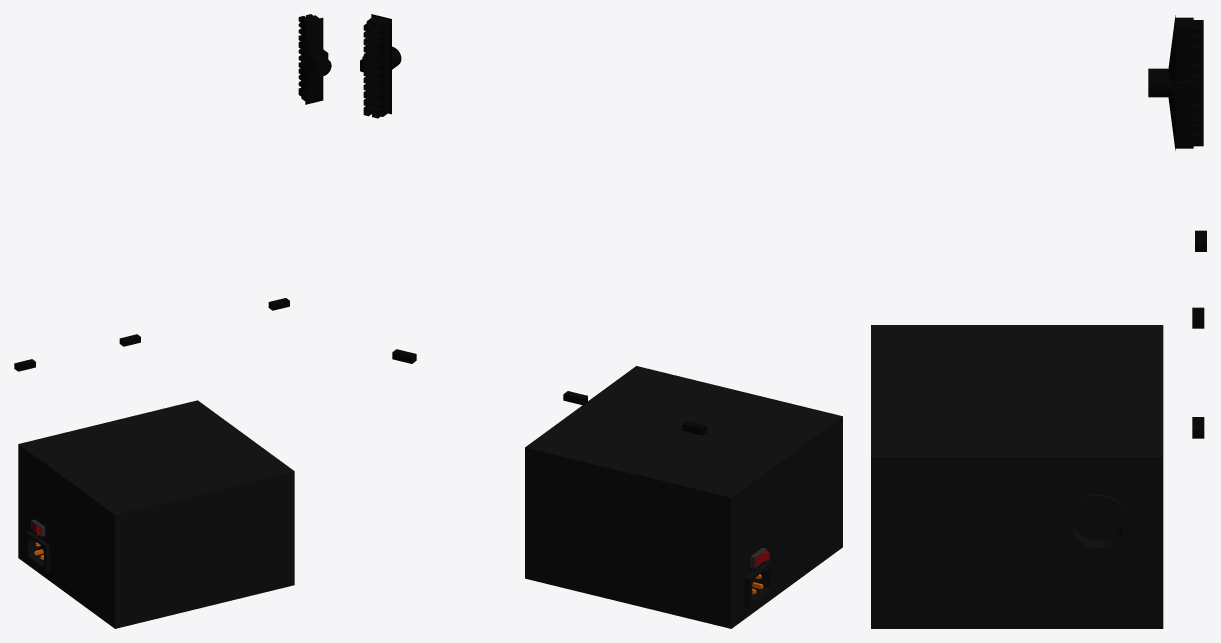
3 views of the same model, side by side, from view 1: azimuth 30°, elevation 25°; view 2: azimuth 150°, elevation 25°; view 3: azimuth 270°, elevation 25° (orthographic). The views are drawn at different scales.
Visible parts, largest first — view 1: BP, Plane.043; view 2: BP, Plane.043; view 3: BP, Plane.043, Cylinder.042.
Part boxes in pixels (x1=…): BP: x1=18, y1=400, x2=294, y2=628; Plane.043: x1=298, y1=14, x2=328, y2=104; BP: x1=525, y1=366, x2=842, y2=628; Plane.043: x1=360, y1=14, x2=391, y2=118; BP: x1=871, y1=325, x2=1163, y2=628; Plane.043: x1=1168, y1=15, x2=1203, y2=150; Cylinder.042: x1=1148, y1=68, x2=1172, y2=97.
Size of the model in its own units: 0.2673 by 0.3685 by 0.1609.
